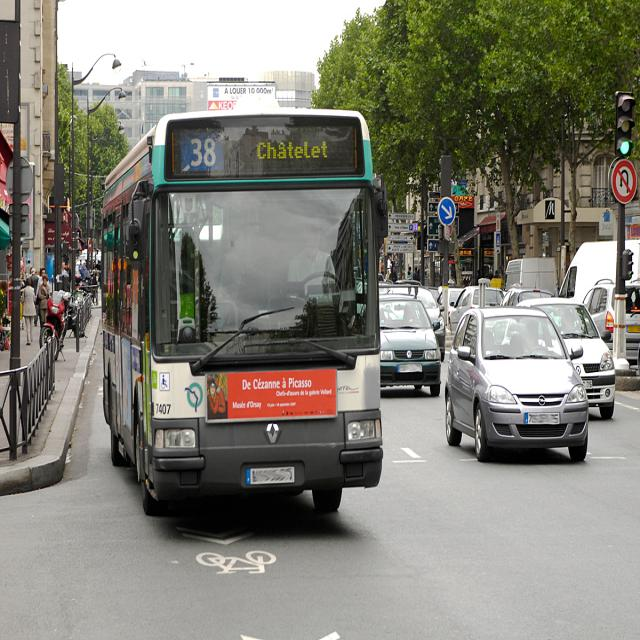Bus: (100, 108, 387, 515)
Car: (446, 307, 589, 461), (380, 297, 442, 396)
Electric pole: (69, 51, 120, 289)
